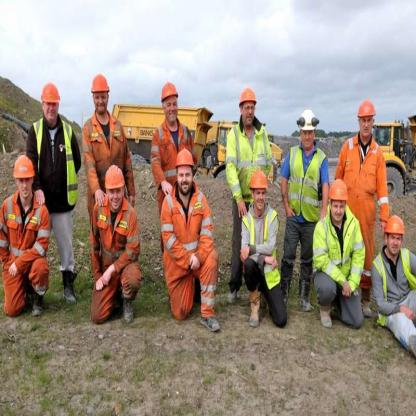person: (26, 75, 87, 311), (159, 144, 223, 334), (309, 180, 368, 338), (83, 159, 139, 324), (238, 170, 292, 330), (223, 77, 280, 223), (281, 107, 321, 314), (0, 156, 51, 317), (83, 60, 144, 186), (368, 208, 416, 356), (333, 99, 384, 217), (144, 72, 188, 203)
